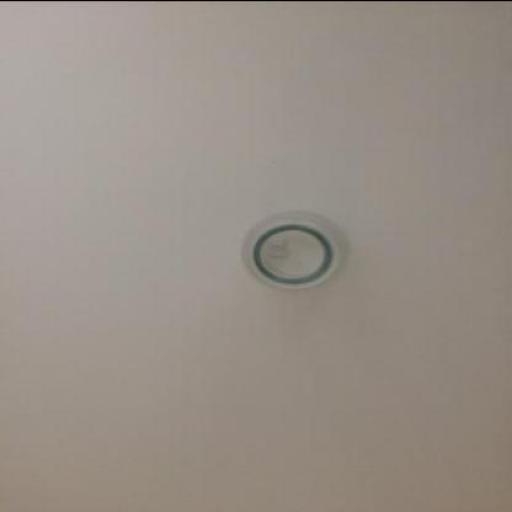glass: (240, 211, 351, 294)
